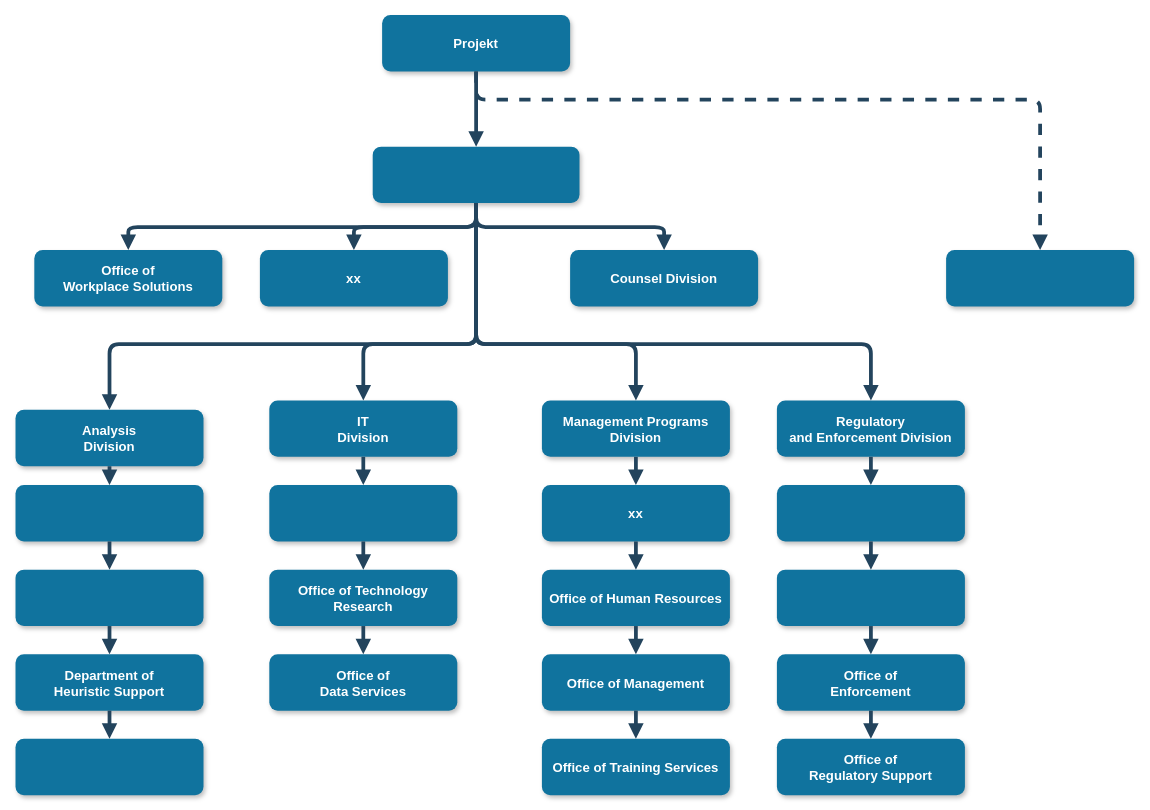
Some shapes in this 1150 by 810 pixel diagram are drawn without their labels. Here are the shapes that lost their labels. From the top down, the centre of each, then its label:
At point 476,175: "xxx".
At point 1040,279: "Cooperation".
At point 110,514: "Office of Global Support".
At point 363,514: "Database Administration".
At point 871,514: "Office of Regulatory Policy".
At point 110,598: "Office of Backtrack Analysis".
At point 871,598: "Office Compliance".
At point 110,768: "Office of Intelligence Support".
